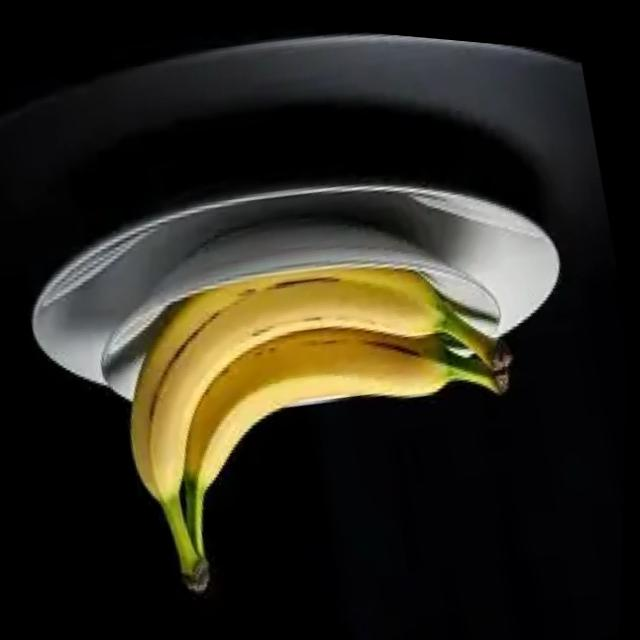BANANA: (127, 266, 509, 592)
